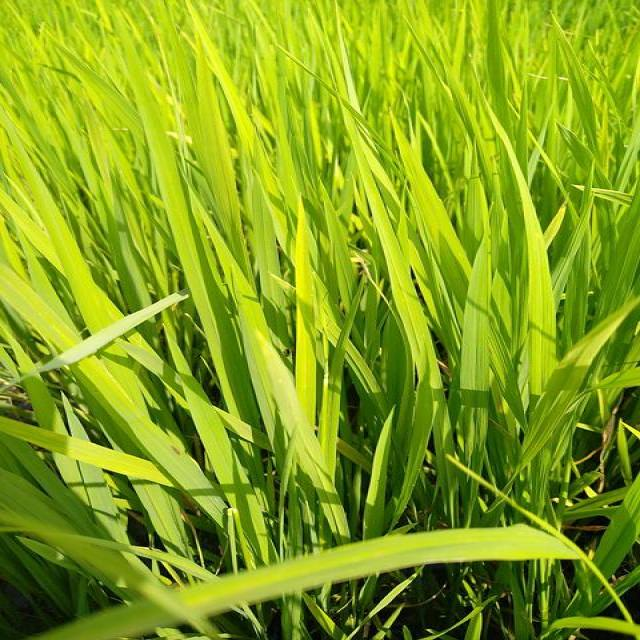Rice: (0, 527, 564, 640), (364, 147, 454, 480), (521, 301, 634, 512), (120, 21, 211, 281), (514, 131, 563, 407), (197, 38, 246, 282), (0, 414, 154, 484), (249, 169, 300, 353), (191, 283, 258, 420), (324, 276, 366, 477), (457, 232, 490, 463), (0, 263, 73, 355), (289, 204, 317, 415), (594, 472, 640, 573)
